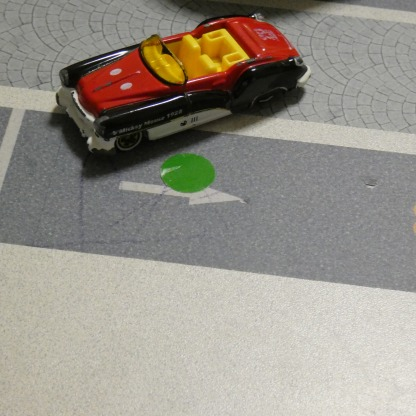car: (56, 15, 302, 155)
